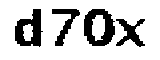0: (80, 4, 117, 55)
7: (48, 5, 81, 51)
d: (11, 8, 45, 52)
x: (116, 15, 148, 55)
